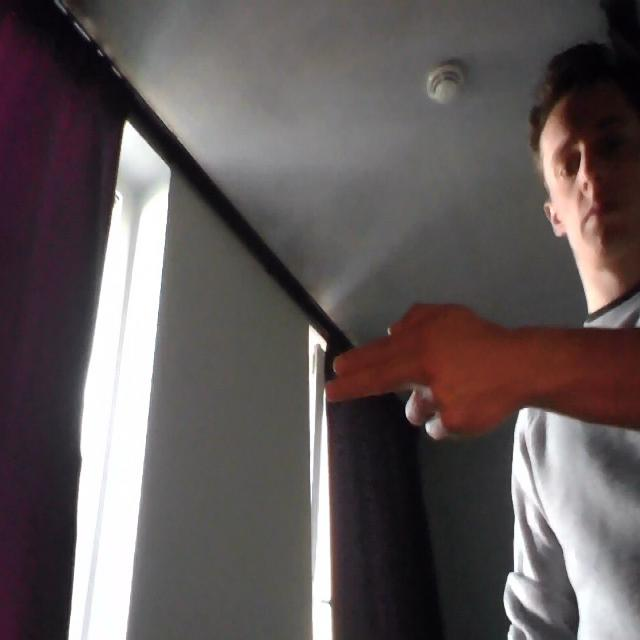left: (323, 303, 513, 446)
